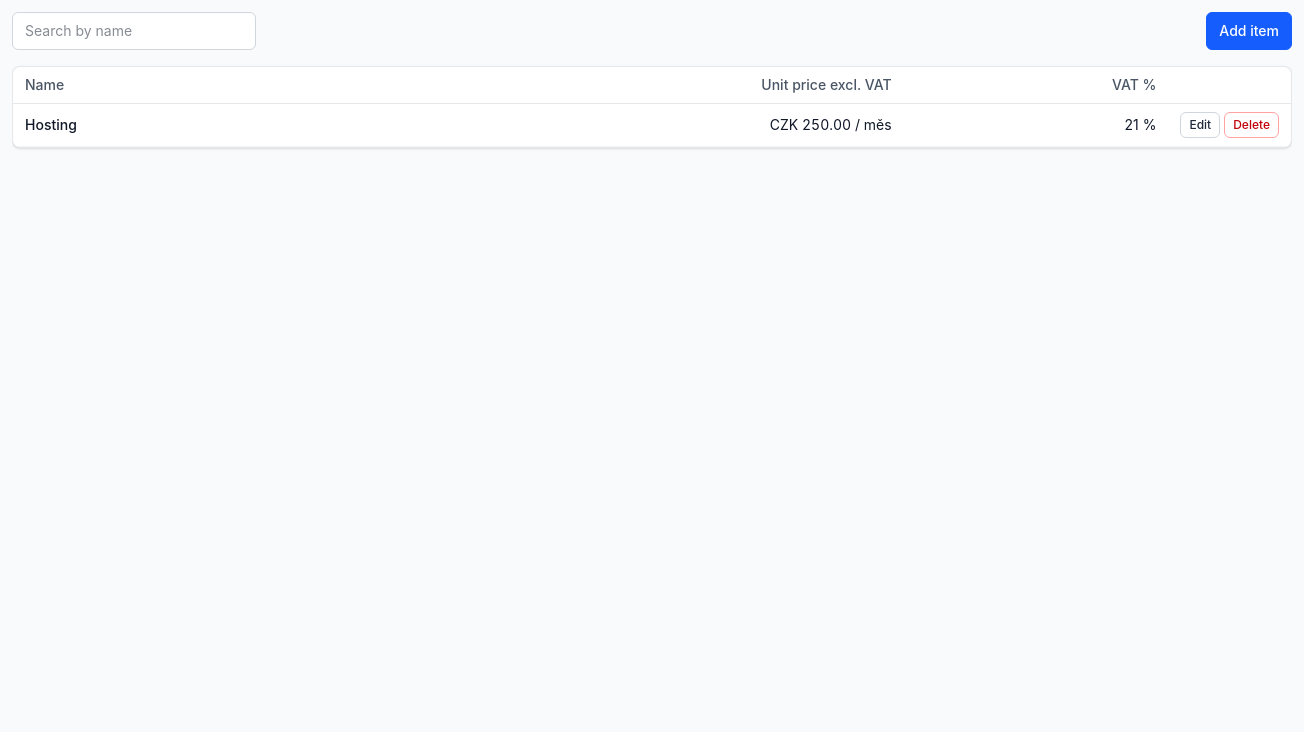
catalog tabs › explains catalog_item_in_use on delete and mixed_vat on an item rate change
Click the button with class "btn-danger": (1252, 125) [1224,112,1279,138]
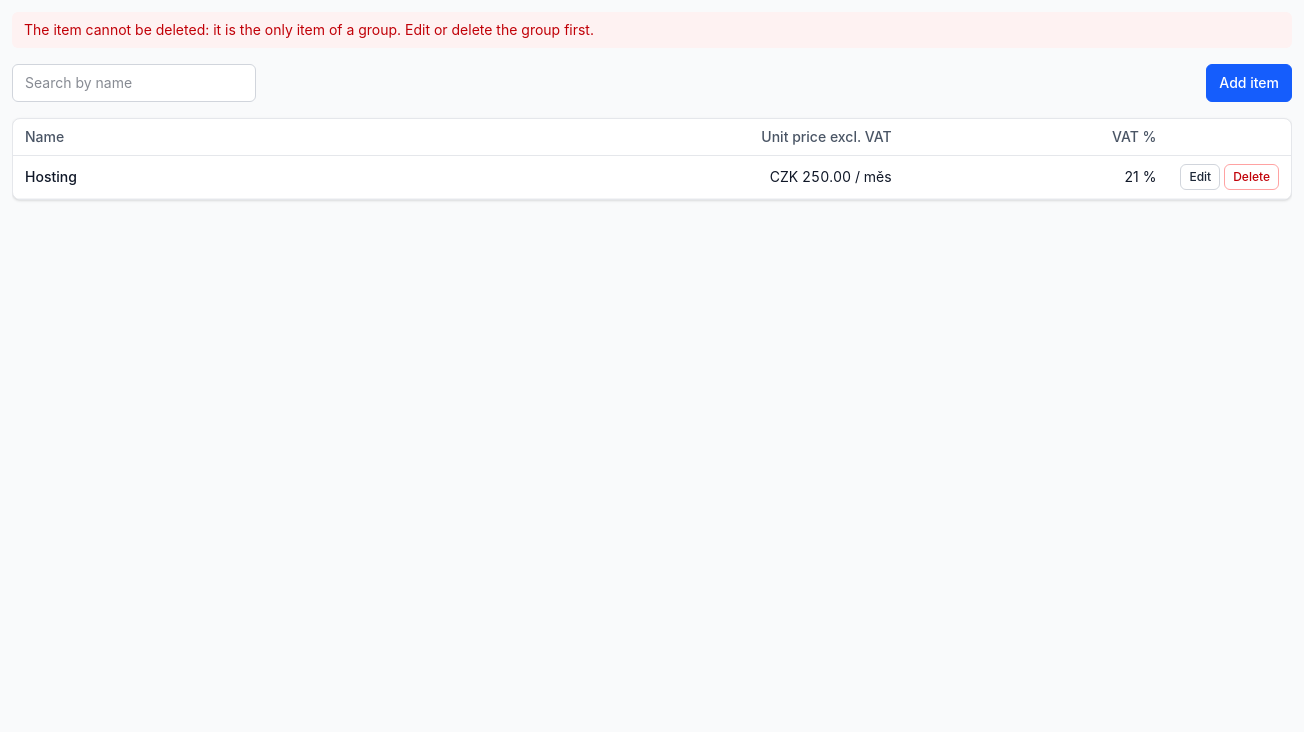
expect the message shows "The item cannot be deleted: it is the only item of a group. Edit or delete the group first.": met, box [24,21,594,38]
Click the button "Edit": (1200, 177) [1180,164,1220,190]
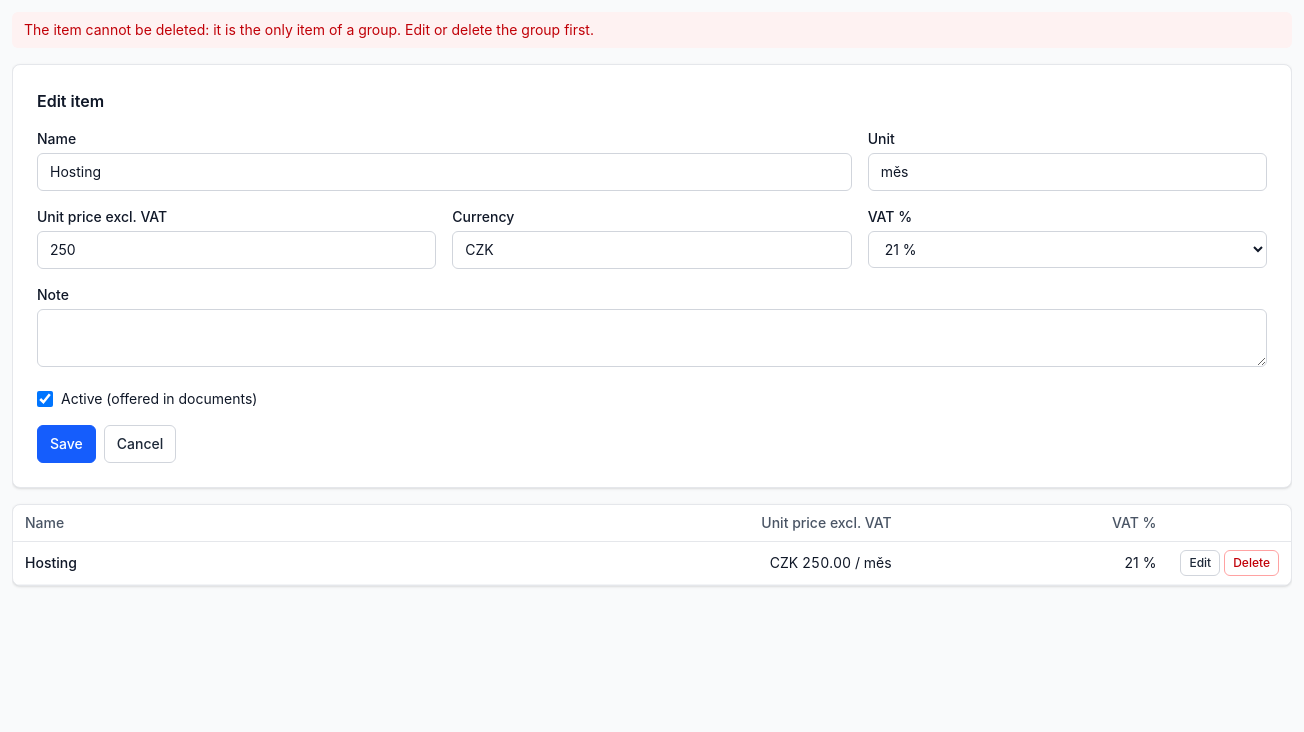
Select "12 %" in the dropdown with id "item-vatRate": (1067, 250) [868,231,1267,268]
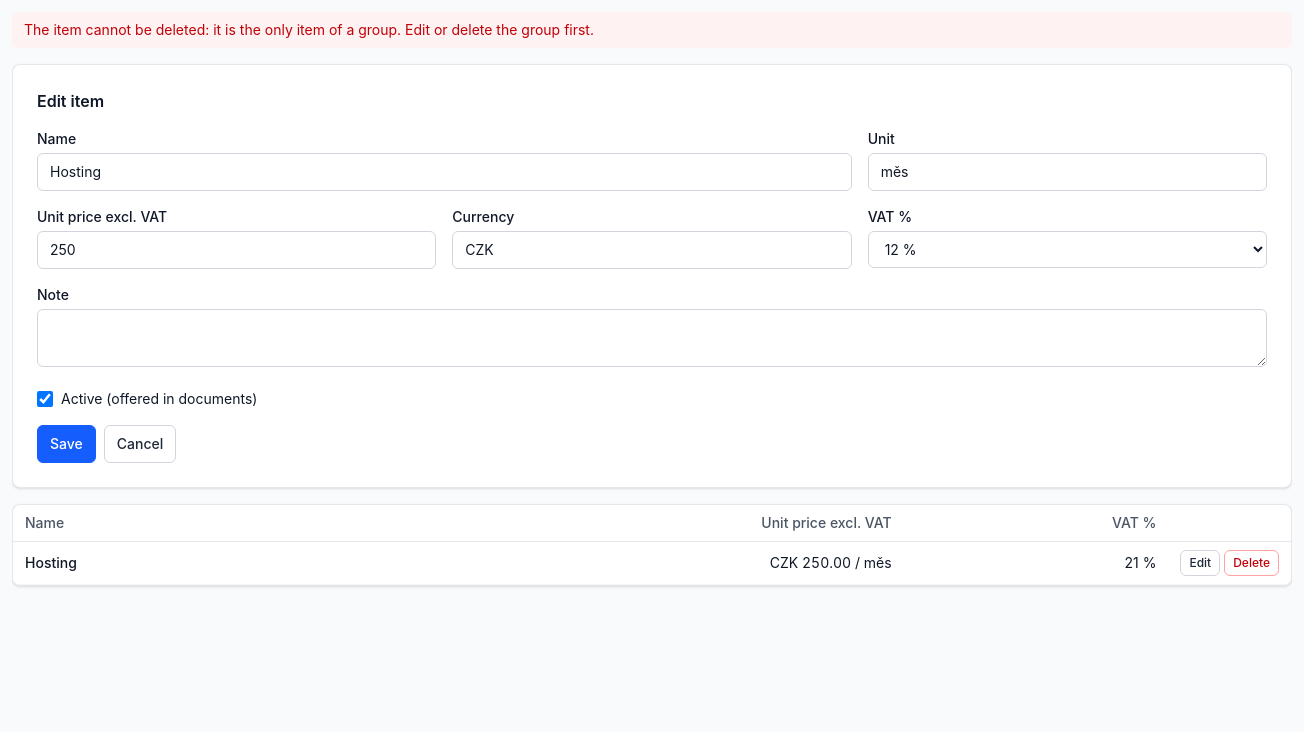
Submit the form with test id "item-form", box [12,64,1292,488]
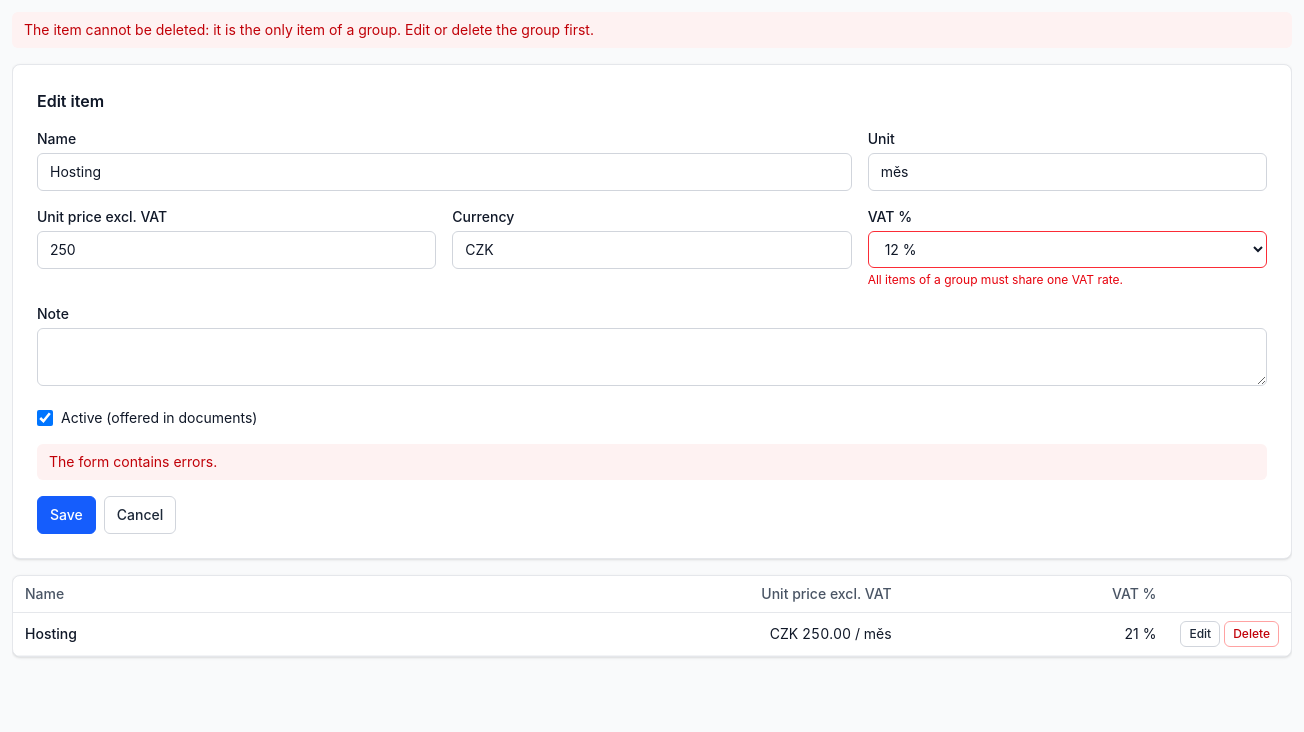
expect the text with id "item-vatRate-error" reads "All items of a group must share one VAT rate.": met, box [868,272,1123,287]
